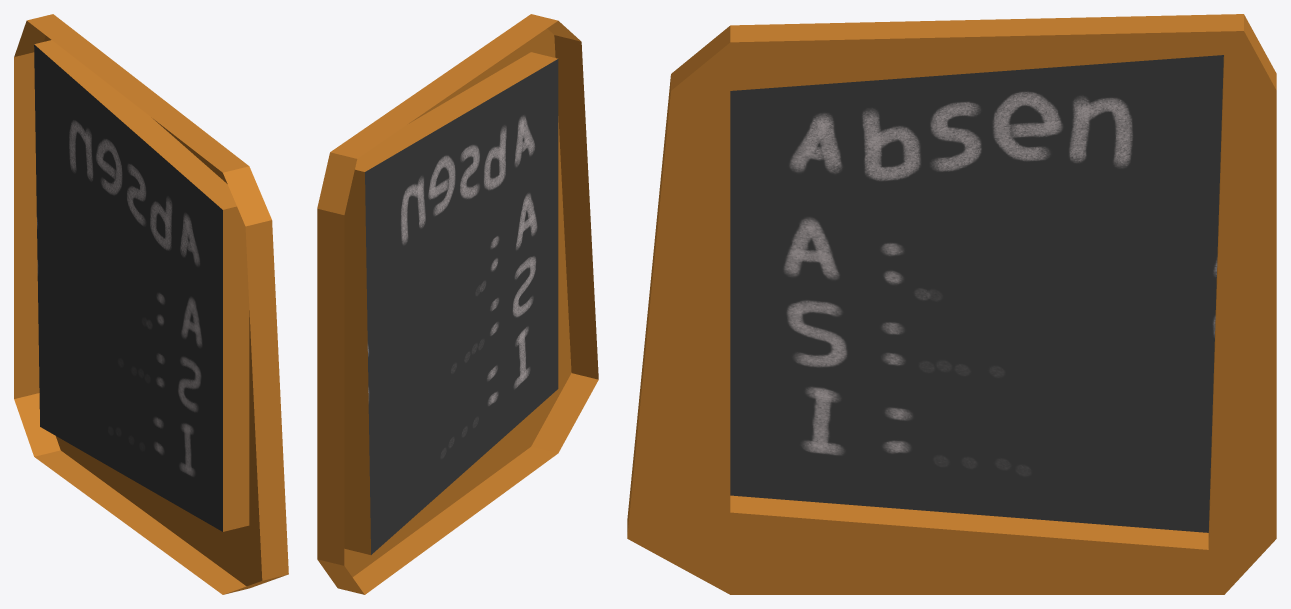
Rendered from papan_piket.fbx.
3 views of the same model, side by side, from view 1: azimuth 30°, elevation 25°; view 2: azimuth 150°, elevation 25°; view 3: azimuth 270°, elevation 25° (orthographic). The views are drawn at different scales.
Parts seen in each view (by area): view 1: Plane; view 2: Plane; view 3: Plane.
Boxes of the visible parts, bbox=[...] form: Plane: bbox=[14, 14, 288, 594]; Plane: bbox=[317, 14, 598, 594]; Plane: bbox=[627, 14, 1276, 594].
Bounding box in the file's own units: 35.55 × 550 × 574.
